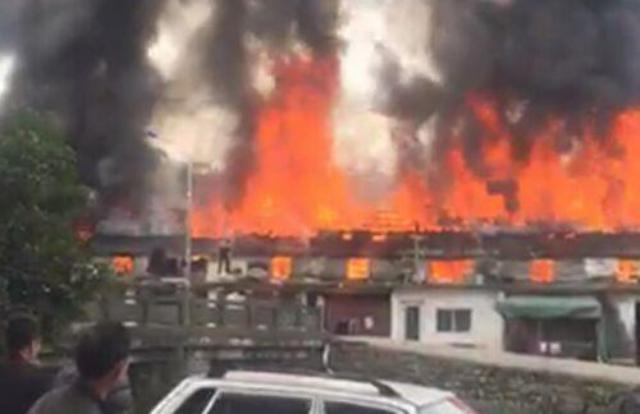fire: (518, 147, 638, 227), (240, 176, 352, 230), (254, 109, 330, 180), (278, 57, 336, 108), (353, 192, 429, 230), (448, 153, 487, 213), (485, 126, 511, 175), (194, 205, 238, 229), (614, 108, 638, 147), (430, 258, 462, 275), (530, 255, 550, 278), (618, 258, 638, 279), (346, 256, 366, 276), (272, 253, 290, 274), (112, 253, 132, 270)
